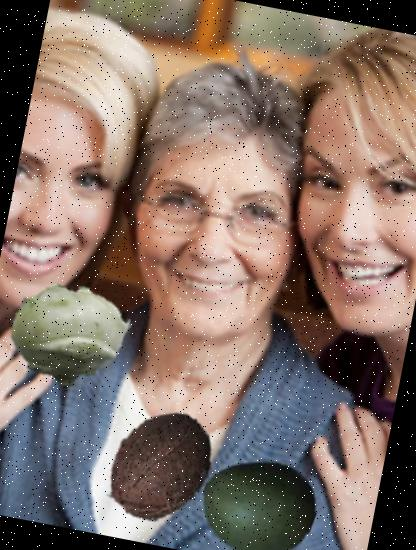Cocos: (90, 395, 231, 535)
Kohlrabi: (0, 263, 142, 407)
Mango: (191, 439, 326, 550)
